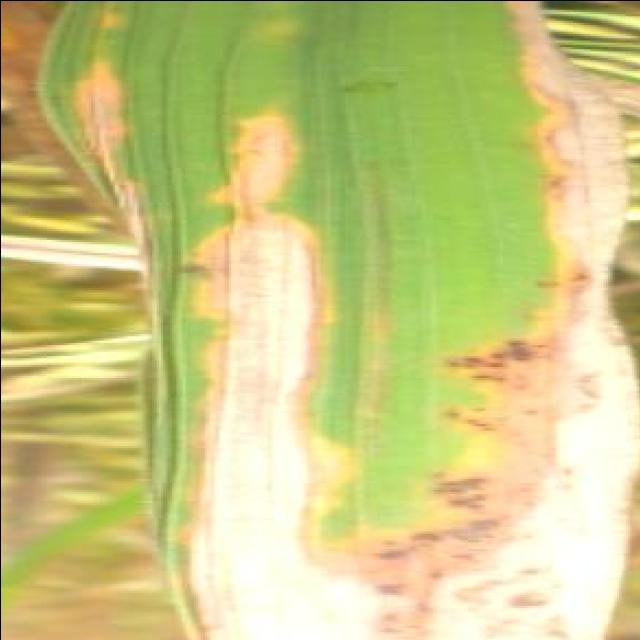Bacterial_Leaf_Blight: (108, 0, 590, 640)
